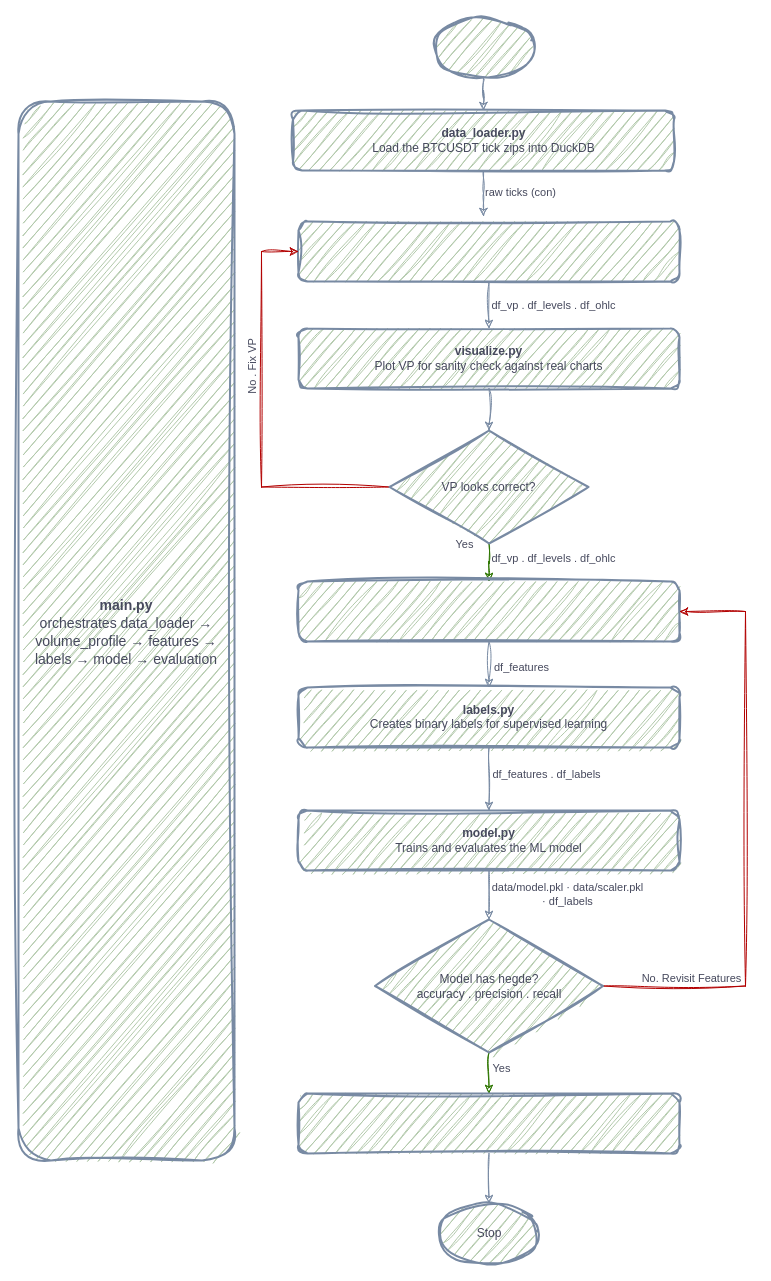
Image size: 771x1281. Some labels were removed from this diagram. Each missing label, with the centre of its shape:
"evaluation.py Measures predictive edge" belongs at (488,1123).
"features.py Extract ML features from VP levels" belongs at (488,611).
"Start" belongs at (483,48).
"volume_profile.py Build daily volume profile, Compute POC, VAH, VAL" belongs at (488,251).
